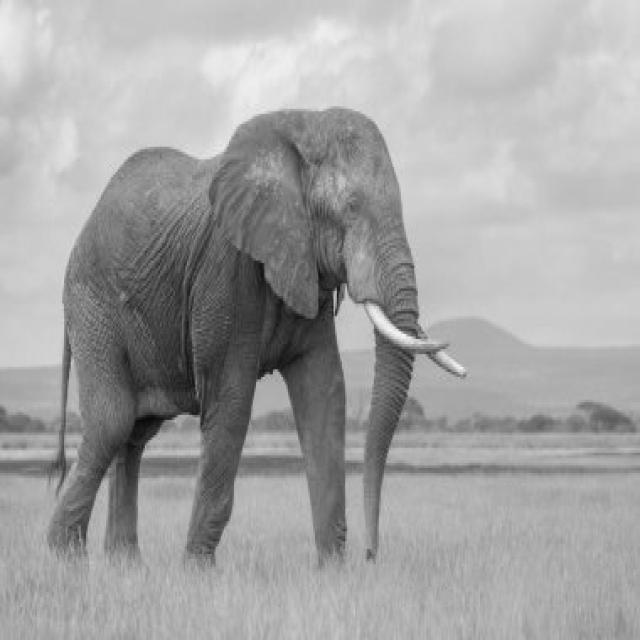Animal: (50, 109, 461, 561)
